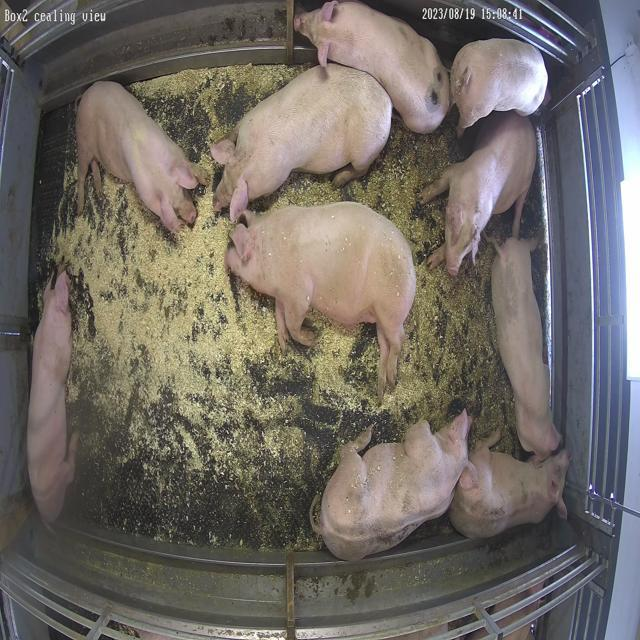Pig: (225, 202, 417, 398), (212, 63, 393, 220)
